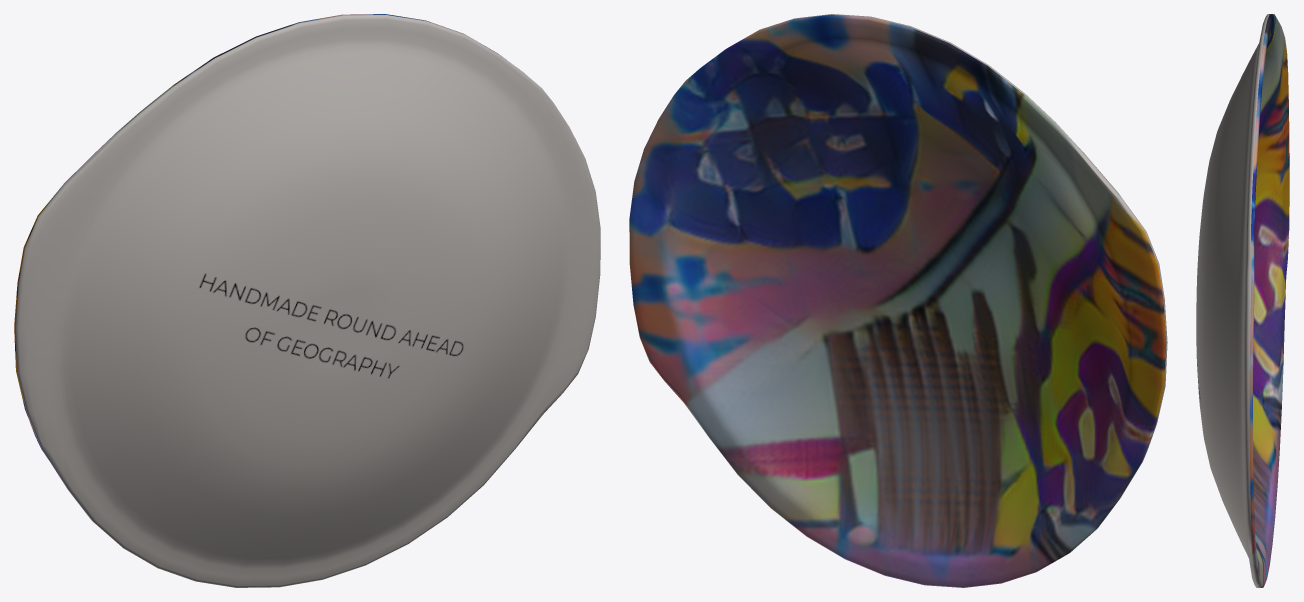
3 views of the same model, side by side, from view 1: azimuth 30°, elevation 25°; view 2: azimuth 150°, elevation 25°; view 3: azimuth 270°, elevation 25° (orthographic). The views are drawn at different scales.
Visible parts, largest first — view 1: bluewhitered39:_bluewhitered_39_remodel1 group; view 2: bluewhitered39:_bluewhitered_39_remodel1 group; view 3: bluewhitered39:_bluewhitered_39_remodel1 group.
Boxes of the visible parts, bbox=[...] form: bluewhitered39:_bluewhitered_39_remodel1 group: bbox=[14, 14, 600, 587]; bluewhitered39:_bluewhitered_39_remodel1 group: bbox=[629, 14, 1167, 587]; bluewhitered39:_bluewhitered_39_remodel1 group: bbox=[1196, 14, 1289, 587].
Bounding box in the file's own units: 8.8 × 8.37 × 1.36.
1 material, 1 textured.
